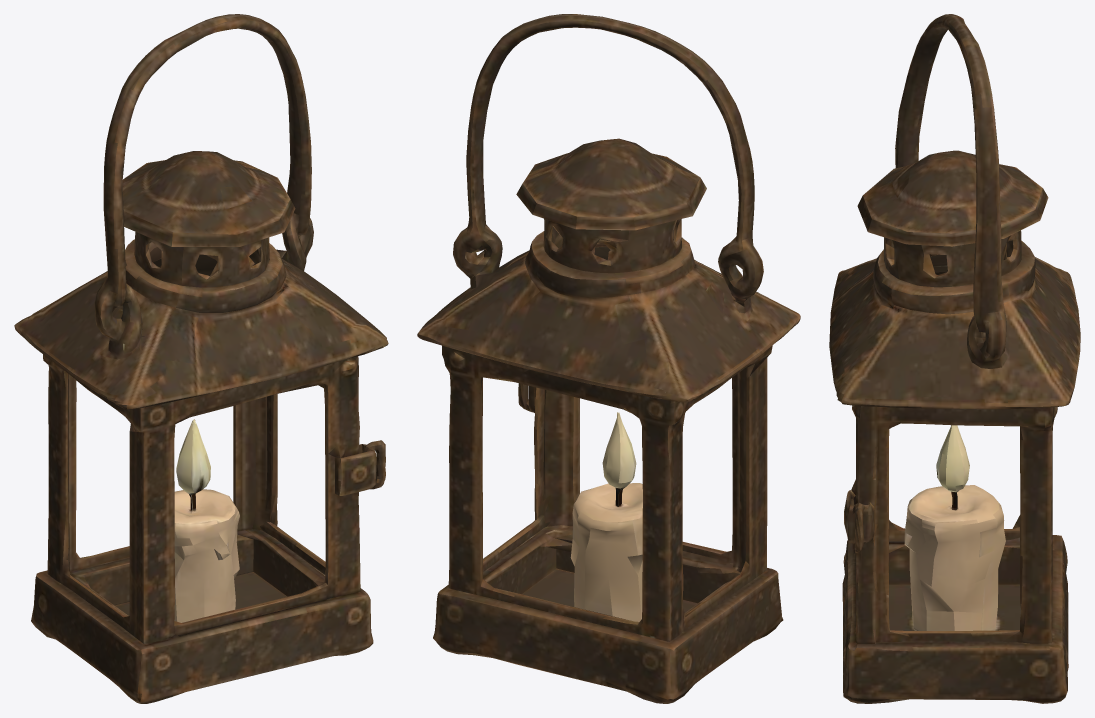
The model's file is lantern.glb.
The picture shows the model from 3 angles, left to right: view 1: azimuth 30°, elevation 25°; view 2: azimuth 150°, elevation 25°; view 3: azimuth 270°, elevation 25°; orthographic projection.
Visible parts, largest first — view 1: Mesh0; view 2: Mesh0; view 3: Mesh0.
Boxes of the visible parts, left/top/right/bottom form: Mesh0: left=14, top=14, right=388, bottom=703; Mesh0: left=417, top=14, right=800, bottom=703; Mesh0: left=829, top=14, right=1080, bottom=703.
Size of the model in its own units: 0.1426 by 0.3 by 0.11.
Materials: 1 (1 with a texture image).
